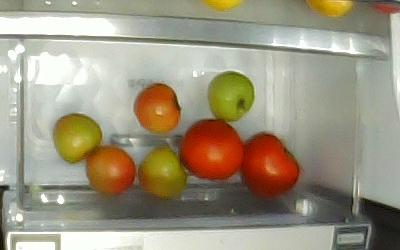tomato: (178, 118, 245, 181), (238, 131, 300, 198), (86, 146, 137, 195), (53, 112, 101, 164), (137, 146, 186, 196), (133, 84, 182, 131), (208, 70, 253, 120)
